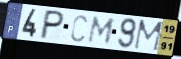4: (20, 8, 38, 39)
9: (116, 17, 138, 51)
C: (70, 13, 89, 43)
M: (132, 19, 166, 53), (86, 15, 117, 45)
P: (38, 9, 66, 41)
